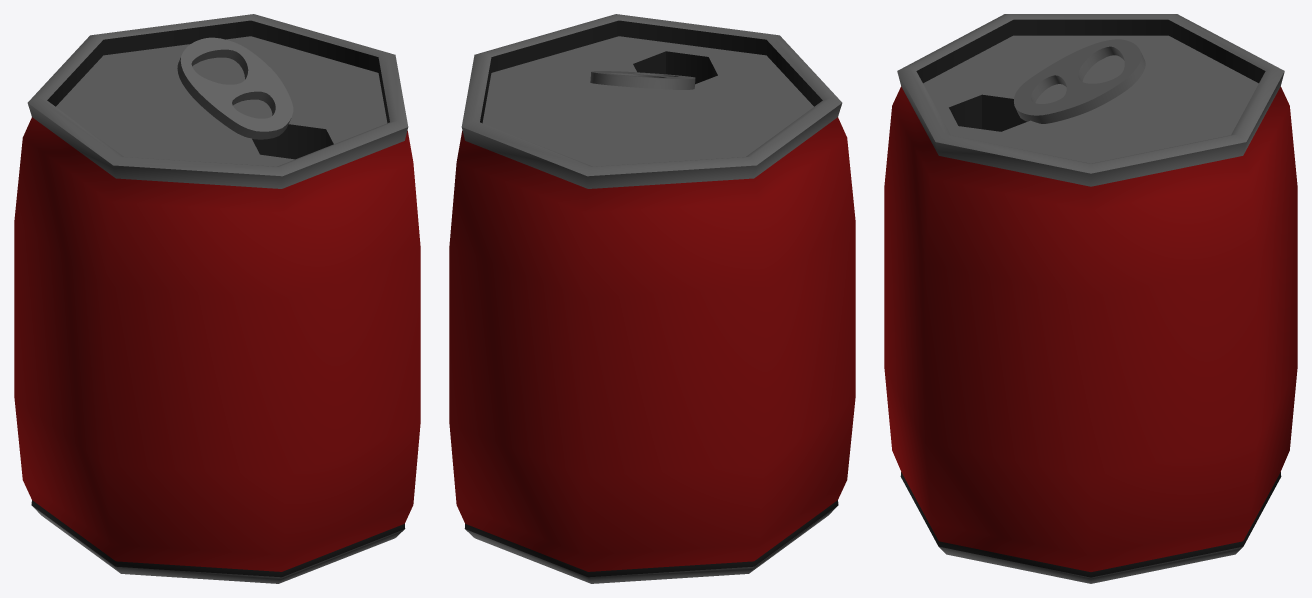
File: soda can final.fbx
3 views of the same model, side by side, from view 1: azimuth 30°, elevation 25°; view 2: azimuth 150°, elevation 25°; view 3: azimuth 270°, elevation 25° (orthographic).
Parts seen in each view (by area): view 1: soad_cap; view 2: soad_cap; view 3: soad_cap.
Boxes of the visible parts, x1=… form: soad_cap: x1=14, y1=14, x2=420, y2=583; soad_cap: x1=449, y1=14, x2=855, y2=583; soad_cap: x1=884, y1=14, x2=1297, y2=583.
Bounding box in the file's own units: 36.72 × 45.83 × 37.67.
